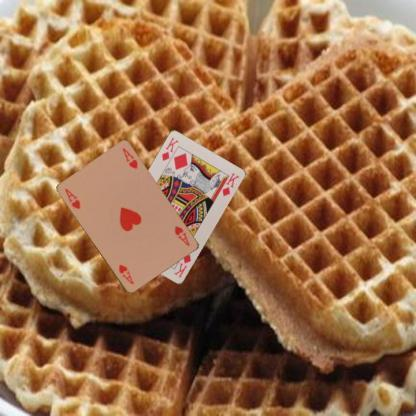Ah: (62, 186, 82, 210), (172, 223, 191, 247)
Kd: (159, 136, 180, 162), (172, 251, 192, 278)
